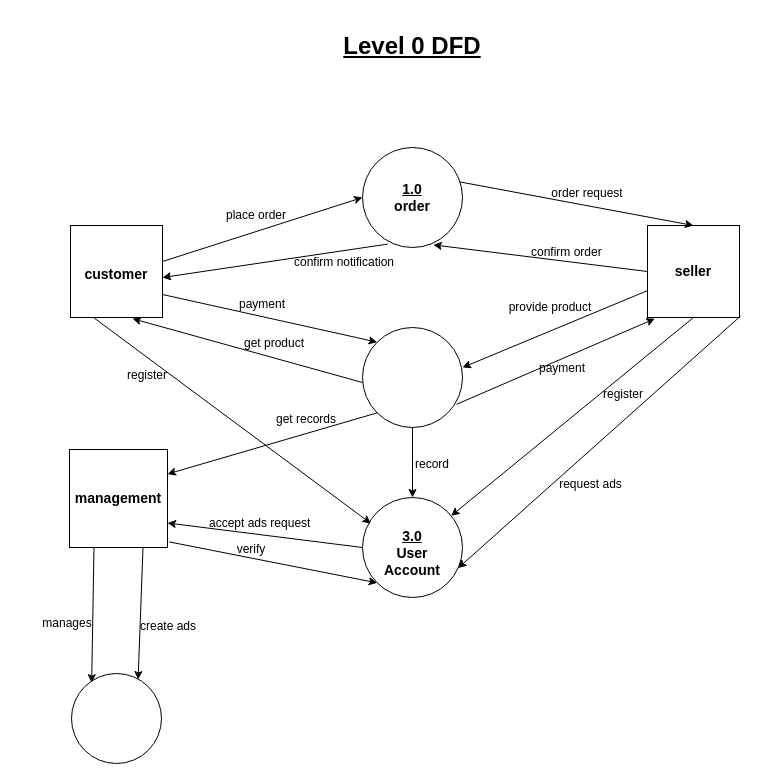
The diagram is 766 pixels wide and 781 high, and some of its shapes have lost their labels. The shapes that lost their labels are listed below. From the top down, each one's centre as x and y in pixels, then its label:
At [412,377]: "2.0 Sell Product".
At [116,718]: "4.0 Website & App".
